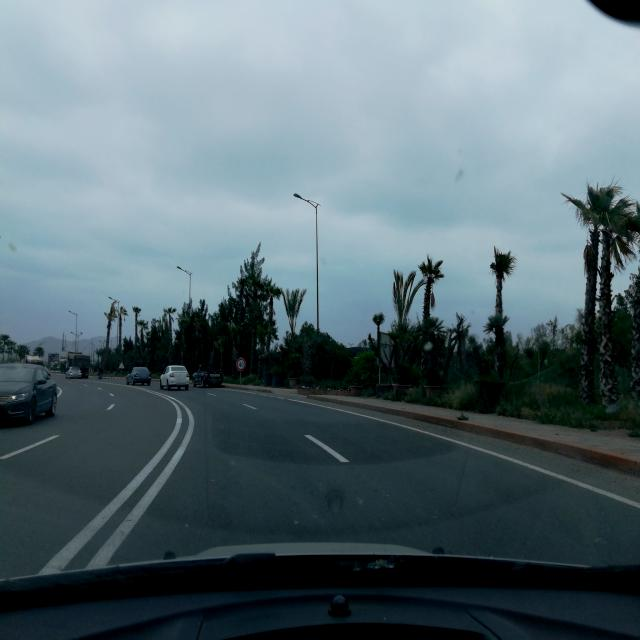car: (0, 362, 58, 428), (160, 364, 190, 390), (125, 366, 152, 386), (66, 366, 82, 380)
